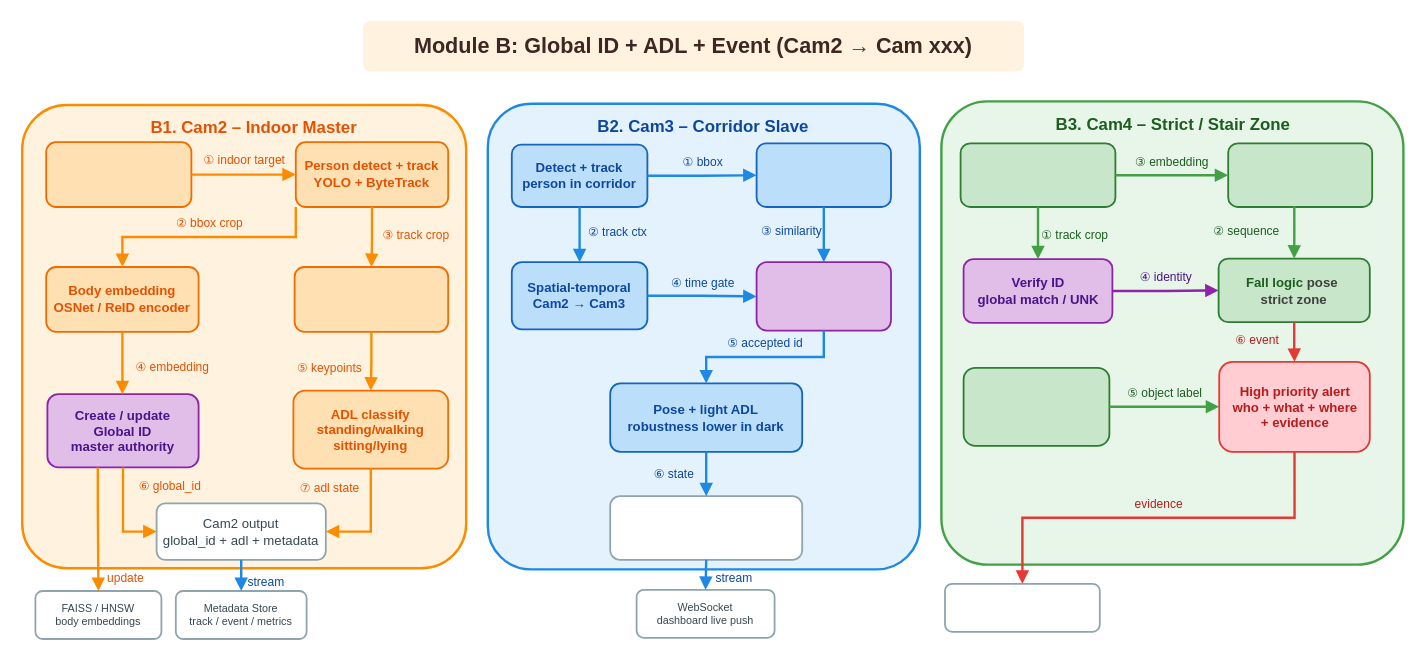
The diagram is 1424 pixels wide and 660 high, and some of its shapes have lost their labels. The shapes that lost their labels are listed below. From the top down, each one's centre as x and y in pixels, then its label:
At point 118,174: "Receive handoff person_id / score / ts".
At point 823,174: "Body embedding query vector DB".
At point 1037,174: "Detect + track stair / high-risk zone".
At point 1300,174: "Pose sequence H-frame keypoint".
At point 371,299: "Pose 17 keypoints YOLO Pose".
At point 823,296: "Verify only match / UNK".
At point 1036,406: "Object branch (opt) knife / gun / item".
At point 706,527: "Cam3 output global_id + adl + confidence".
At point 1022,607: "Evidence Clips JSONL / MP4 / snapshots".
